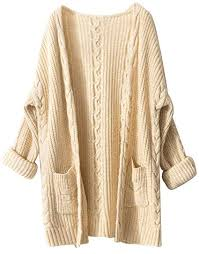C_cardigan sweater: (13, 10, 192, 250)
